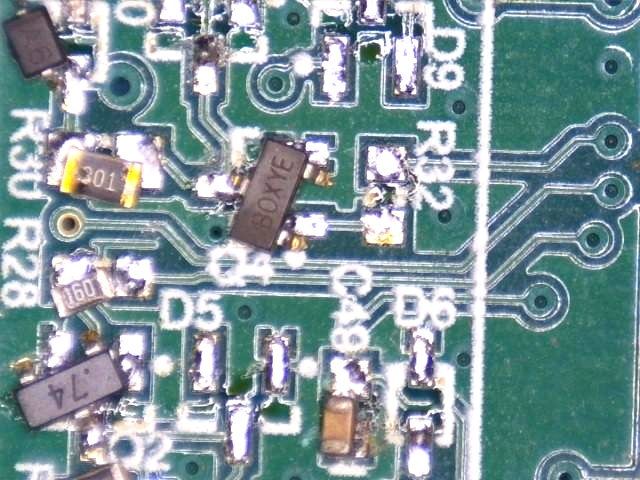pcb_defect: (12, 329, 144, 463), (198, 137, 330, 254), (1, 0, 86, 112), (46, 131, 160, 210), (50, 253, 150, 318), (318, 357, 371, 458)
